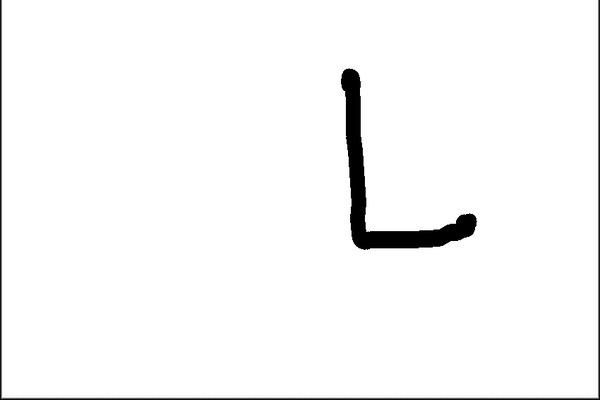L: (331, 59, 484, 253)
